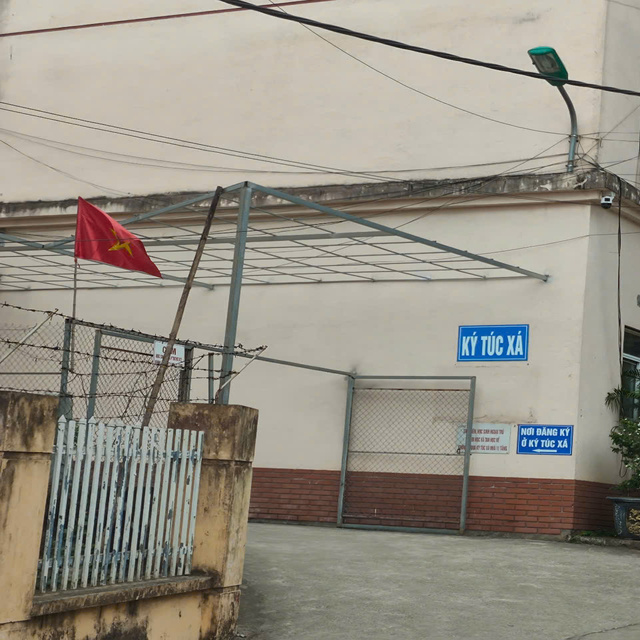laco: (68, 191, 170, 289)
